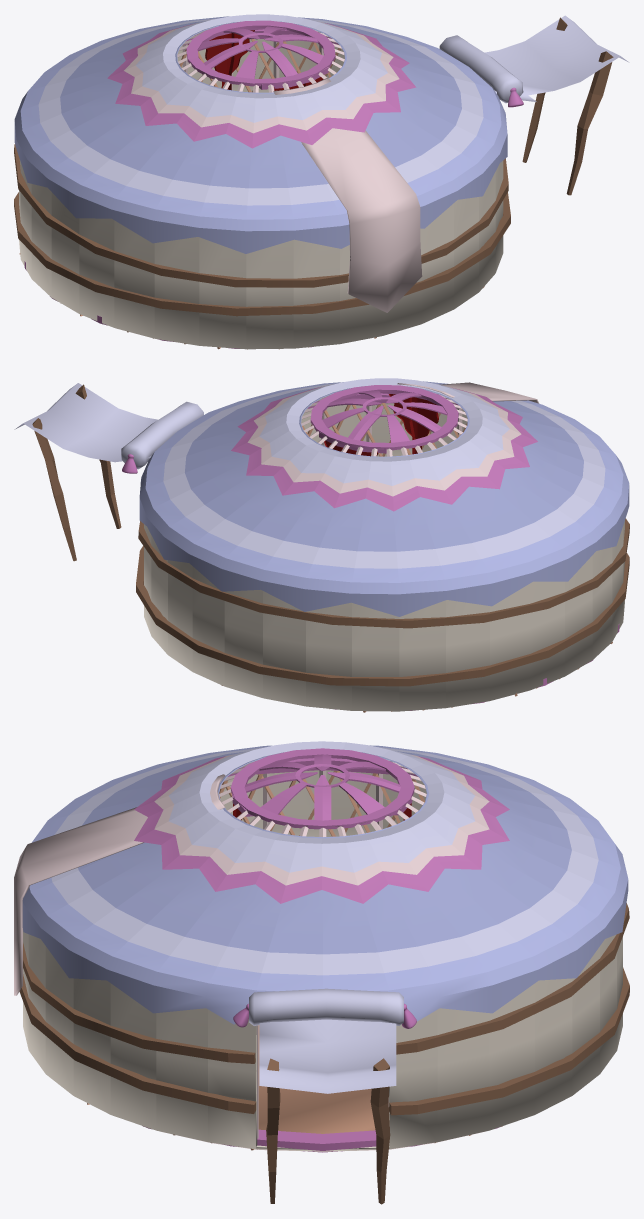
The model's file is yurte_combined_opendoor.fbx.
The picture shows the model from 3 angles, top to bottom: view 1: azimuth 30°, elevation 25°; view 2: azimuth 150°, elevation 25°; view 3: azimuth 270°, elevation 25°; orthographic projection. The views are drawn at different scales.
Parts seen in each view (by area): view 1: polySurface147, polySurface155, polySurface116, polySurface213, polySurface228, polySurface117, polySurface156, polySurface153, polySurface154, polySurface219, polySurface218, polySurface227 (+1 smaller); view 2: polySurface147, polySurface155, polySurface116, polySurface117, polySurface156, polySurface228, polySurface154, polySurface153, polySurface219, polySurface217, polySurface213, polySurface227 (+1 smaller); view 3: polySurface147, polySurface155, polySurface116, polySurface228, polySurface117, polySurface156, polySurface213, polySurface219, polySurface154, polySurface153, polySurface215, polySurface217 (+4 smaller).
Boxes of the visible parts, x1=… form: polySurface147: x1=14, y1=16, x2=507, y2=253; polySurface155: x1=19, y1=39, x2=503, y2=349; polySurface116: x1=107, y1=14, x2=416, y2=148; polySurface213: x1=273, y1=78, x2=422, y2=312; polySurface228: x1=485, y1=15, x2=629, y2=101; polySurface117: x1=14, y1=192, x2=510, y2=316; polySurface156: x1=14, y1=56, x2=508, y2=287; polySurface153: x1=197, y1=26, x2=323, y2=78; polySurface154: x1=186, y1=20, x2=335, y2=86; polySurface219: x1=439, y1=35, x2=523, y2=103; polySurface218: x1=566, y1=51, x2=613, y2=195; polySurface227: x1=177, y1=28, x2=344, y2=92; polySurface147: x1=139, y1=381, x2=629, y2=616; polySurface155: x1=144, y1=403, x2=624, y2=711; polySurface116: x1=231, y1=378, x2=537, y2=511; polySurface117: x1=136, y1=546, x2=629, y2=686; polySurface156: x1=138, y1=518, x2=629, y2=628; polySurface228: x1=14, y1=383, x2=157, y2=462; polySurface154: x1=310, y1=385, x2=458, y2=450; polySurface153: x1=322, y1=390, x2=447, y2=442; polySurface219: x1=121, y1=401, x2=203, y2=469; polySurface217: x1=32, y1=418, x2=76, y2=561; polySurface213: x1=397, y1=382, x2=539, y2=403; polySurface227: x1=301, y1=393, x2=467, y2=456; polySurface147: x1=22, y1=745, x2=628, y2=1024; polySurface155: x1=23, y1=770, x2=622, y2=1151; polySurface116: x1=134, y1=741, x2=509, y2=903; polySurface228: x1=259, y1=1019, x2=396, y2=1093; polySurface117: x1=19, y1=967, x2=629, y2=1115; polySurface156: x1=23, y1=903, x2=629, y2=1063; polySurface213: x1=14, y1=774, x2=225, y2=995; polySurface219: x1=249, y1=988, x2=403, y2=1025; polySurface154: x1=230, y1=748, x2=414, y2=829; polySurface153: x1=244, y1=754, x2=400, y2=820; polySurface215: x1=143, y1=1126, x2=499, y2=1152; polySurface217: x1=370, y1=1058, x2=390, y2=1204.
Size of the model in its own units: 29.66 by 10.69 by 23.1.
